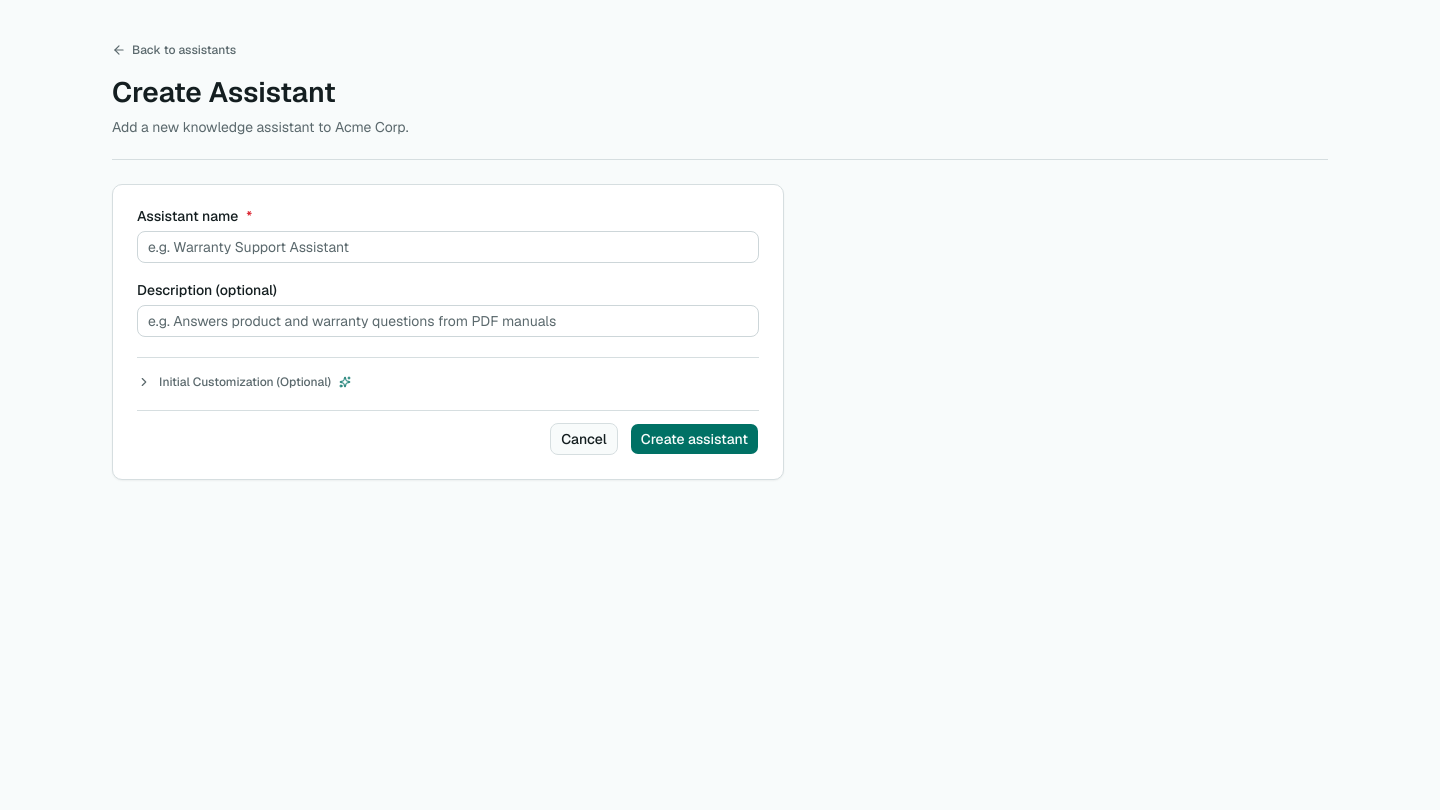
Test case: NewAssistantPage › toggles optional advanced initial customization section
The image size is (1440, 810).
Expected: the field labelled "Welcome message" is not shown
Click the button "Initial Customization (Optional)" at (244, 382), box [137, 374, 351, 390]
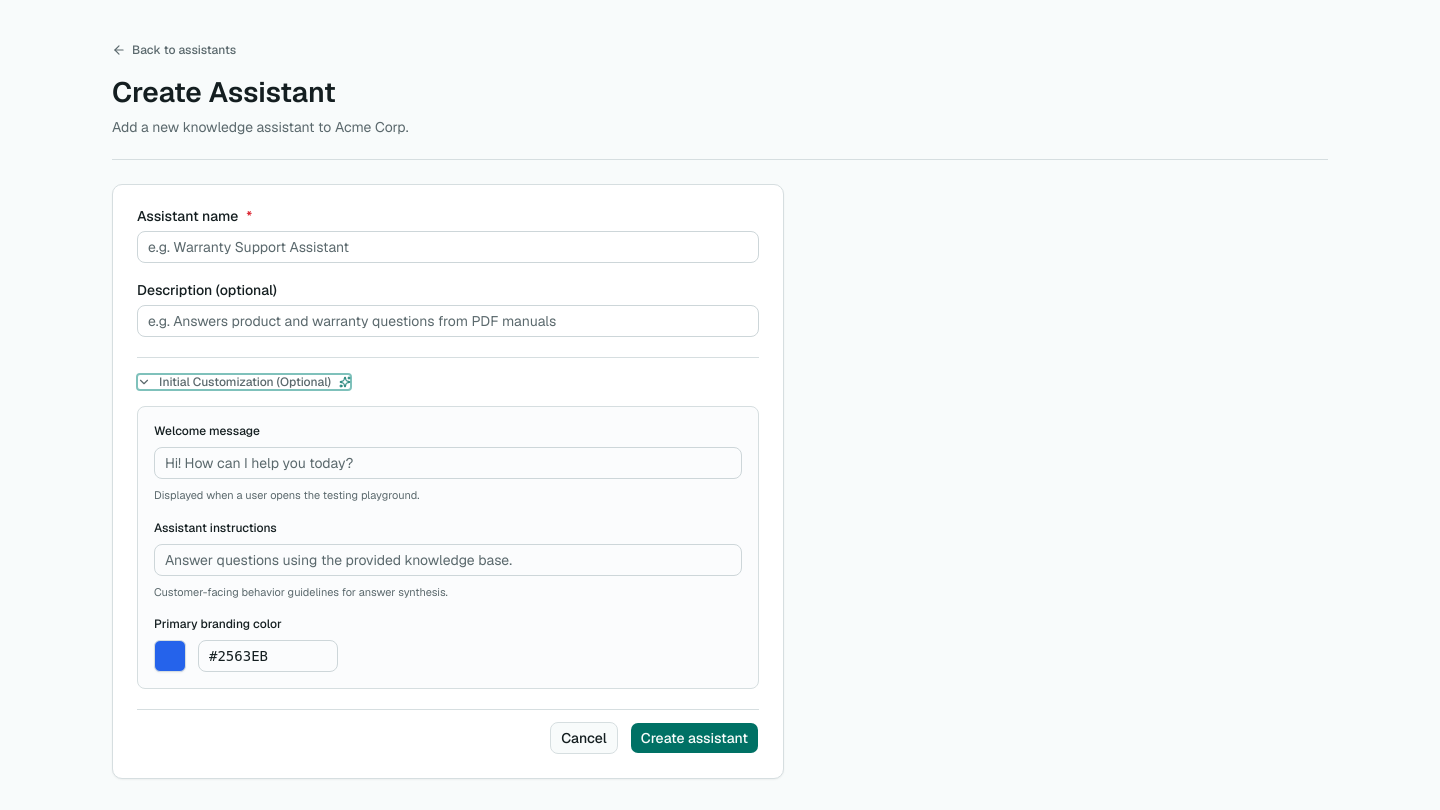
Expected: the field labelled "Welcome message" is shown, [154, 447, 742, 479]
Expected: the field labelled "Assistant instructions" is shown, [154, 544, 742, 576]
